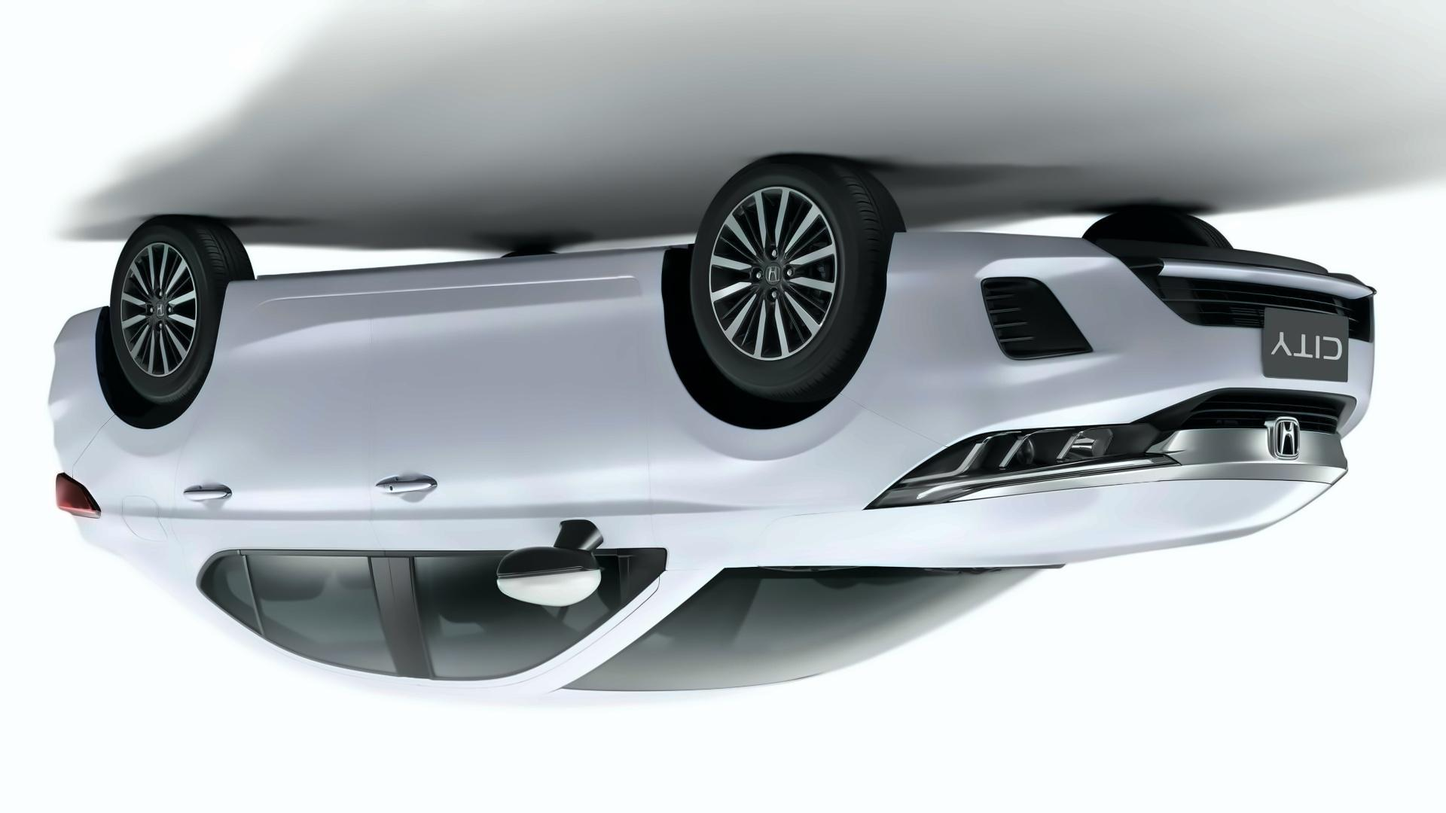Car hood: (855, 464, 1342, 577)
Fender - -F-L-: (639, 361, 917, 617)
Fender - -R-L-: (59, 377, 217, 643)
Front bumper: (871, 216, 1379, 457)
Headlight - -L-: (860, 423, 1115, 511)
Passenger-s door - -F-L-: (370, 232, 690, 701)
Passenger-s door - -R-L-: (157, 228, 408, 707)
Rear bumper: (42, 299, 112, 481)
Rear light - -L-: (55, 469, 100, 522)
Side bumper - -L-: (208, 228, 692, 374)
Side mirror - -L-: (496, 520, 610, 606)
